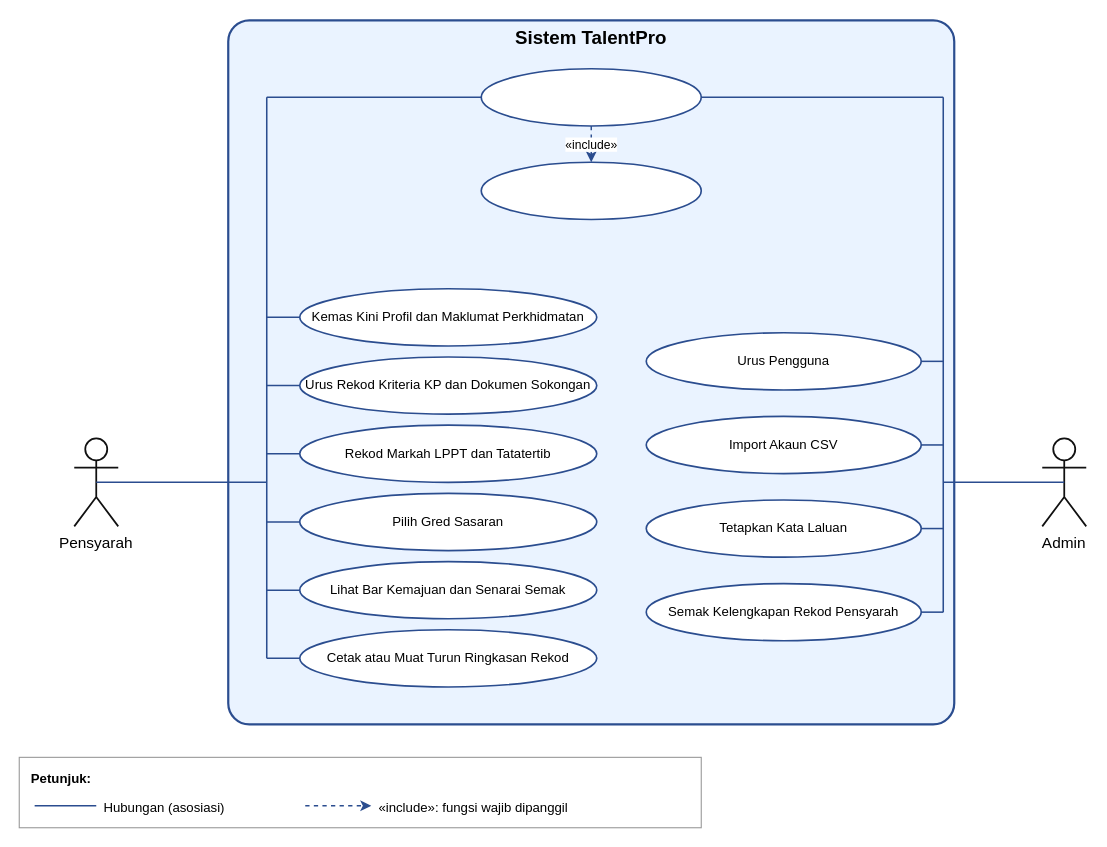
The diagram is 1107 pixels wide and 847 high, and some of its shapes have lost their labels. Each missing label, with the centre of its shape:
"Log Masuk" belongs at (x=591, y=96).
"Sahkan Pengguna" belongs at (x=591, y=190).
